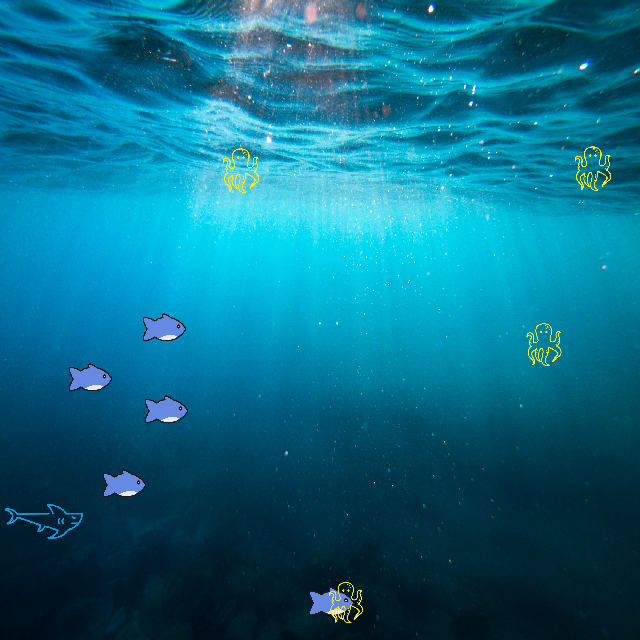target fish: (3, 504, 84, 540)
